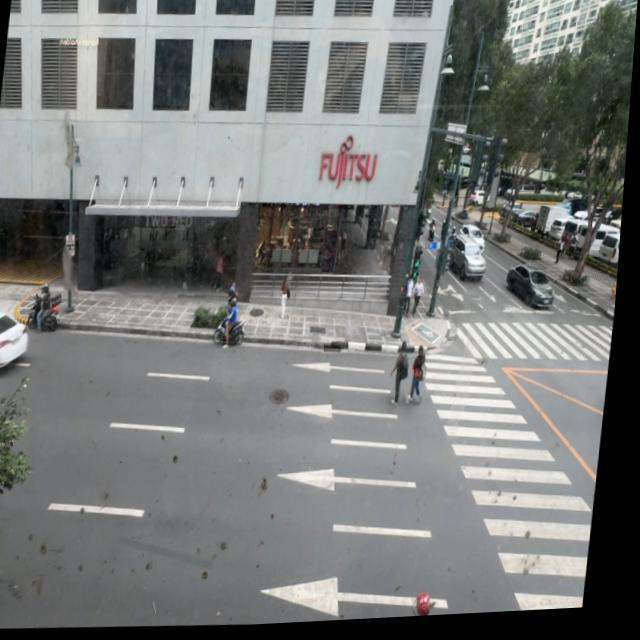jaywalking: (388, 339, 410, 406), (407, 344, 429, 405)
